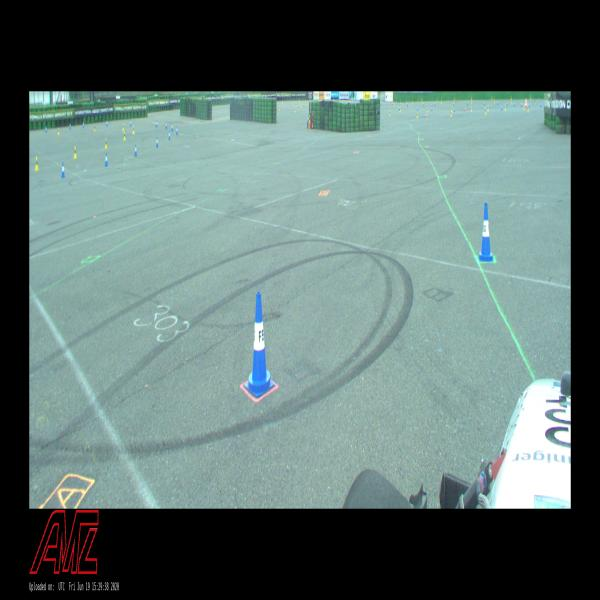blue_cone: (245, 292, 274, 397), (478, 203, 493, 261), (61, 162, 65, 178), (105, 153, 108, 166), (168, 130, 171, 140), (135, 144, 137, 156), (156, 137, 158, 147), (176, 126, 178, 134), (171, 123, 173, 131)
orange_cone: (425, 112, 427, 118)
yellow_cone: (35, 157, 39, 170), (74, 146, 77, 157), (123, 132, 126, 140), (132, 126, 134, 134), (416, 112, 418, 118), (123, 124, 124, 130)
